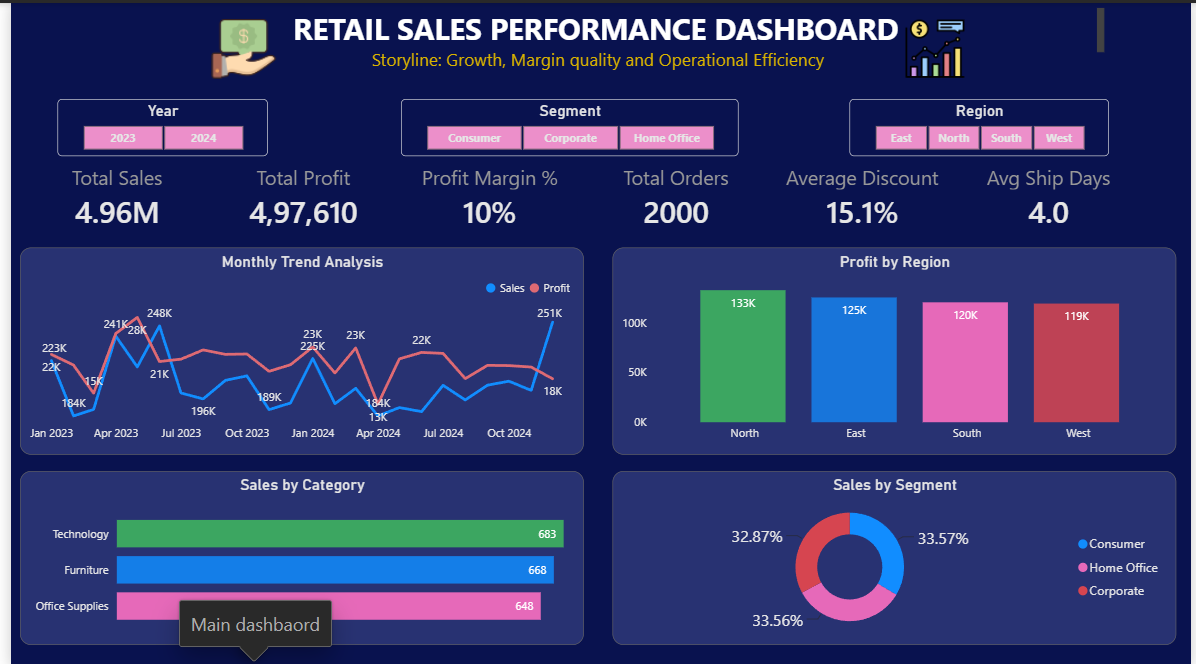

The dashboard page shown, as its layout file describes it:
{"tool":"powerbi","page":{"name":"Main dashbaord","canvas":[1280,720],"ordinal":0},"visuals":[{"type":"textbox","box":[86.2,0,1104.4,89.5],"z":0},{"type":"cardVisual","fields":{"Data":["retail_sales_analysis.Total Sales","retail_sales_analysis.Total Profit","retail_sales_analysis.Profit Margin %","retail_sales_analysis.Total Orders","retail_sales_analysis.Average Discount","retail_sales_analysis.Avg Ship Days"]},"box":[0,152.9,1242.7,112.2],"z":1000},{"type":"lineChart","title":"Monthly Trend Analysis","fields":{"Y":["retail_sales_analysis.Total Sales"],"Y2":["retail_sales_analysis.Total Profit"],"Category":["retail_sales_analysis.Order_Date.Variation.Date Hierarchy.Year","retail_sales_analysis.Order_Date.Variation.Date Hierarchy.Month"]},"box":[9.8,265.1,611.6,224.5],"z":2000},{"type":"columnChart","title":"Profit by Region","fields":{"Category":["retail_sales_analysis.Region"],"Y":["Sum(retail_sales_analysis.Profit)"]},"box":[652.2,265.1,611.6,224.5],"z":3000},{"type":"barChart","title":"Sales by Category","fields":{"Category":["retail_sales_analysis.Category"],"Y":["Count(retail_sales_analysis.Sales)"]},"box":[9.8,507.5,611.6,188.7],"z":4000},{"type":"donutChart","title":"Sales by Segment","fields":{"Category":["retail_sales_analysis.Segment"],"Y":["Sum(retail_sales_analysis.Sales)"]},"box":[652.2,507.5,611.6,188.7],"z":5000},{"type":"slicer","title":"Year","fields":{"Values":["retail_sales_analysis.order_year"]},"box":[50.4,104.1,227.7,61.8],"z":6000},{"type":"slicer","title":"Region","fields":{"Values":["retail_sales_analysis.Region"]},"box":[909.2,104.1,281.4,61.8],"z":7000},{"type":"slicer","title":"Segment","fields":{"Values":["retail_sales_analysis.Segment"]},"box":[422.9,104.1,366,61.8],"z":8000},{"type":"image","box":[151.3,11.4,201.7,78.1],"z":9000},{"type":"image","box":[909.2,17.9,185.4,63.4],"z":10000}]}

Visuals, with their boxes in screenshot pixels (x1, y1, x2, y2), scaled from the page's 1280x720 canvas onto the 1196x664 screenshot:
textbox: box(81, 0, 1112, 83)
cardVisual - retail_sales_analysis.Total Sales x retail_sales_analysis.Total Profit: box(0, 141, 1161, 244)
"Monthly Trend Analysis" lineChart: box(9, 244, 581, 452)
"Profit by Region" columnChart: box(609, 244, 1181, 452)
"Sales by Category" barChart: box(9, 468, 581, 642)
"Sales by Segment" donutChart: box(609, 468, 1181, 642)
"Year" slicer: box(47, 96, 260, 153)
"Region" slicer: box(850, 96, 1112, 153)
"Segment" slicer: box(395, 96, 737, 153)
image: box(141, 11, 330, 83)
image: box(850, 17, 1023, 75)
